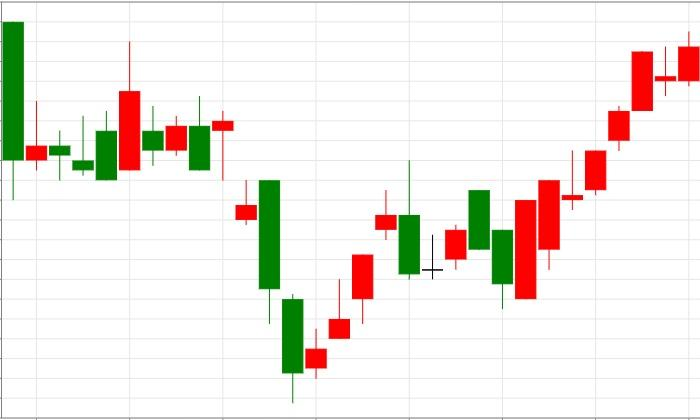bearish_engulfing_fall: (281, 160, 420, 403)
three_white_soldiers_rise: (188, 96, 374, 403)
